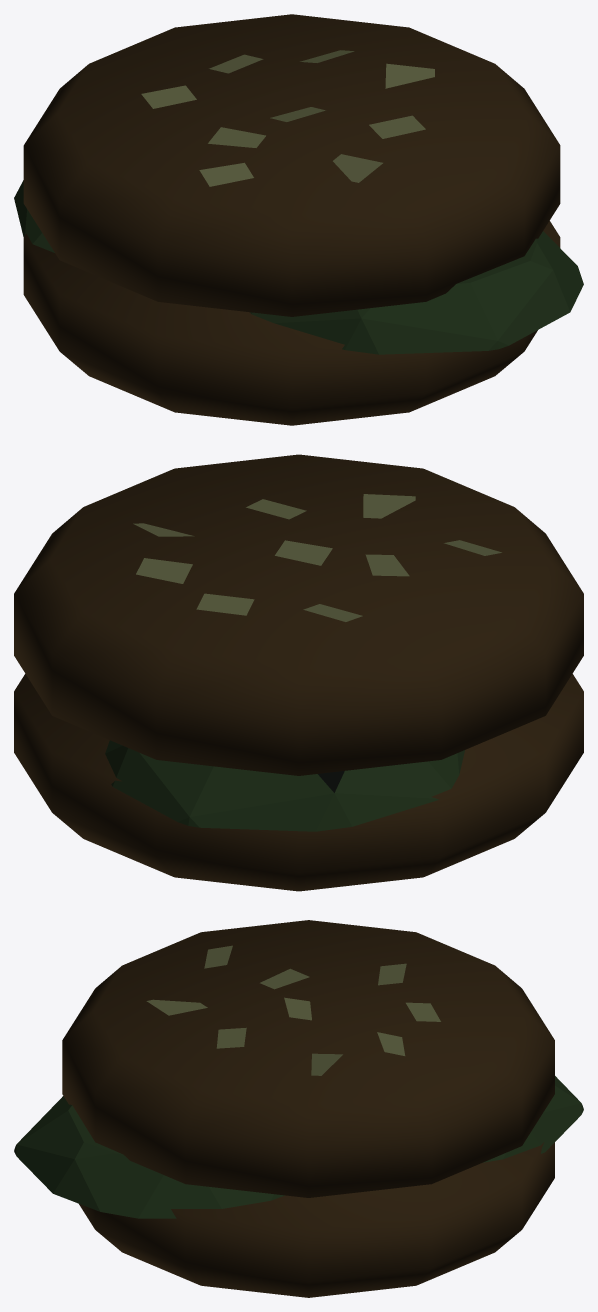
The model's file is Burger(LettuceNoMeat).glb.
3 renders of one model, top to bottom at view 1: azimuth 30°, elevation 25°; view 2: azimuth 150°, elevation 25°; view 3: azimuth 270°, elevation 25°, orthographic. The views are drawn at different scales.
Parts seen in each view (by area): view 1: Cylinder.039; view 2: Cylinder.039; view 3: Cylinder.039.
Boxes of the visible parts, box(x1,y1,x2,y2) form: Cylinder.039: box(14, 14, 583, 425); Cylinder.039: box(14, 454, 583, 891); Cylinder.039: box(14, 920, 583, 1297).
Size of the model in its own units: 0.4718 by 0.2148 by 0.5456.
